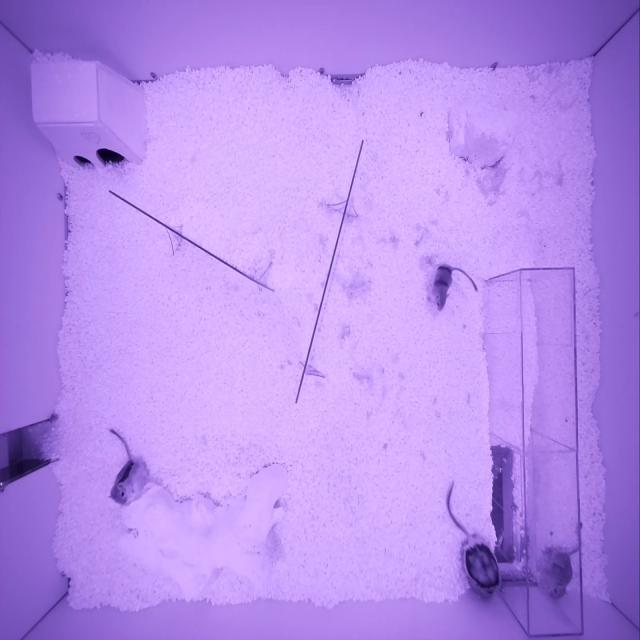adult_back: (460, 536, 501, 599)
pup_fluffy: (544, 549, 573, 600)
pup_h_stripe: (432, 264, 453, 311)
pup_v_stripe: (109, 460, 138, 505)
